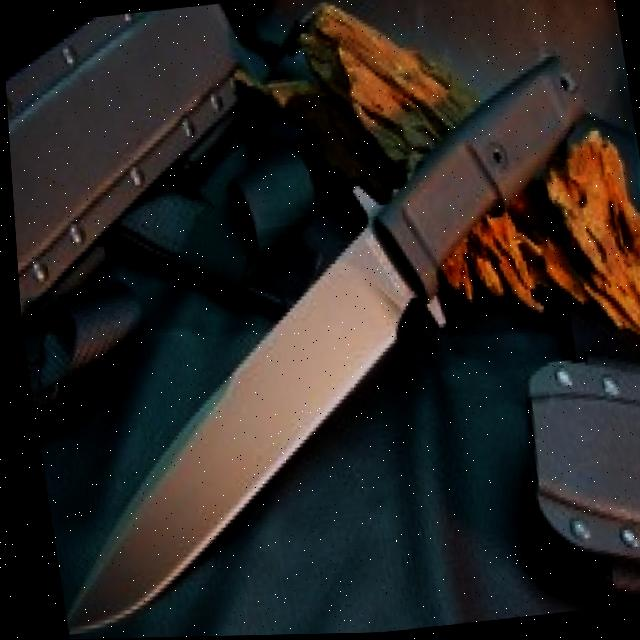knife: (3, 51, 640, 634)
